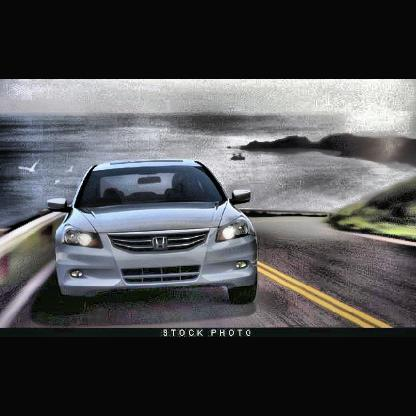Honda Accord Sedan 2012: (47, 162, 259, 305)
